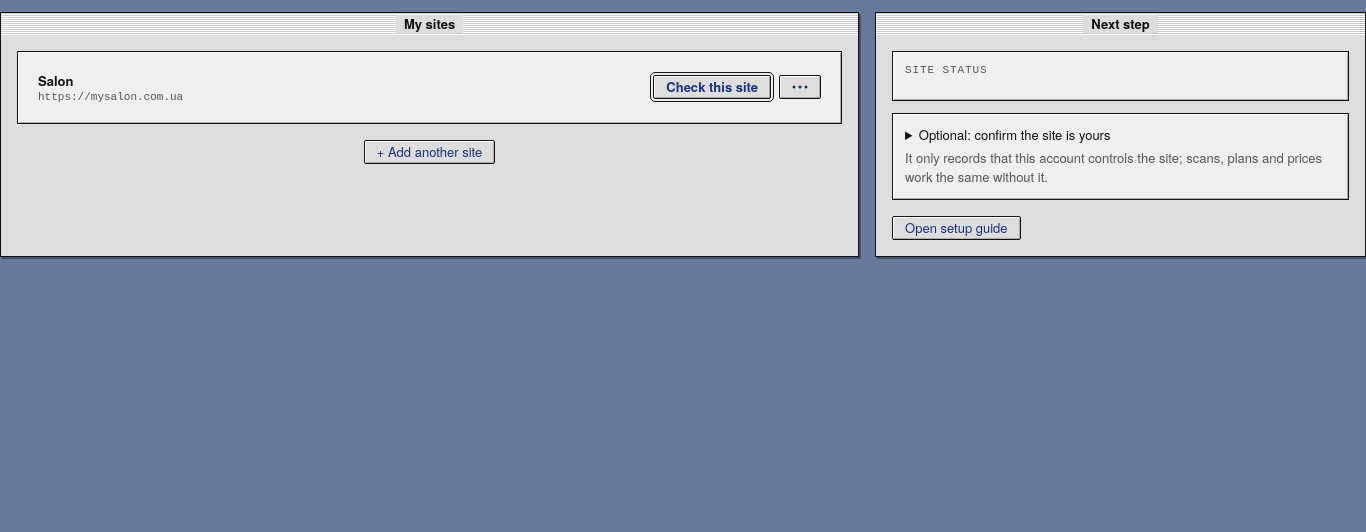
Test case: the add-a-site form › offers a plain Cancel when adding and Cancel editing when editing in en
Click the button "+ Add another site": (430, 152) [364,140,495,164]
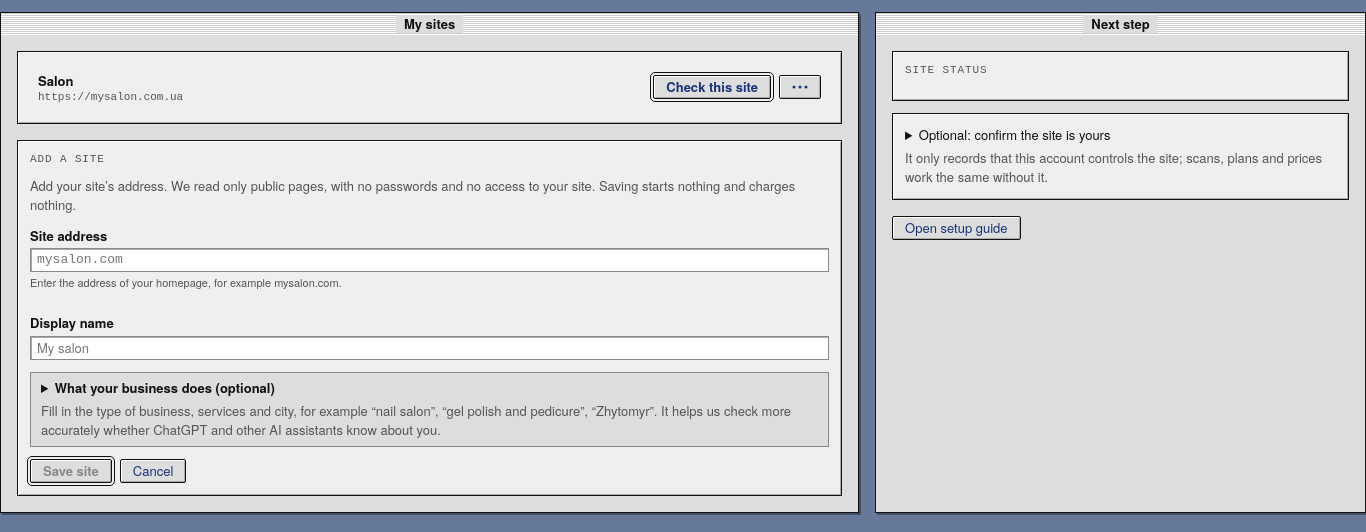
expect the button "Cancel editing" is not shown: met
expect the button "Cancel" is shown: met
Click the button "Cancel": (153, 471) [120,459,186,483]
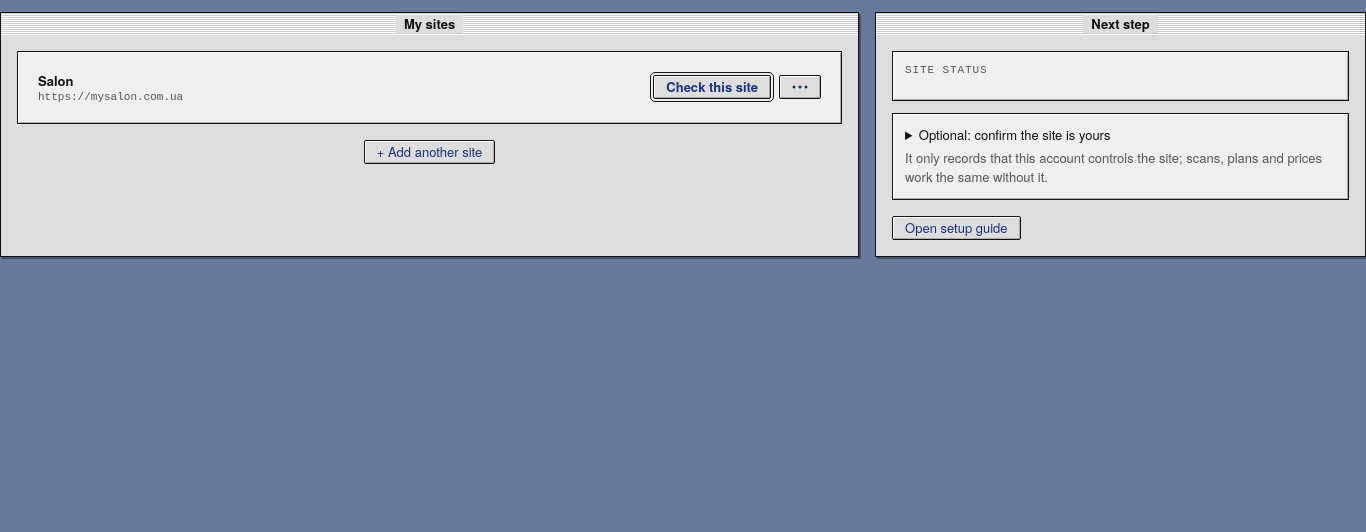
Click the button named "Actions for Salon": (800, 87) [779,75,821,99]
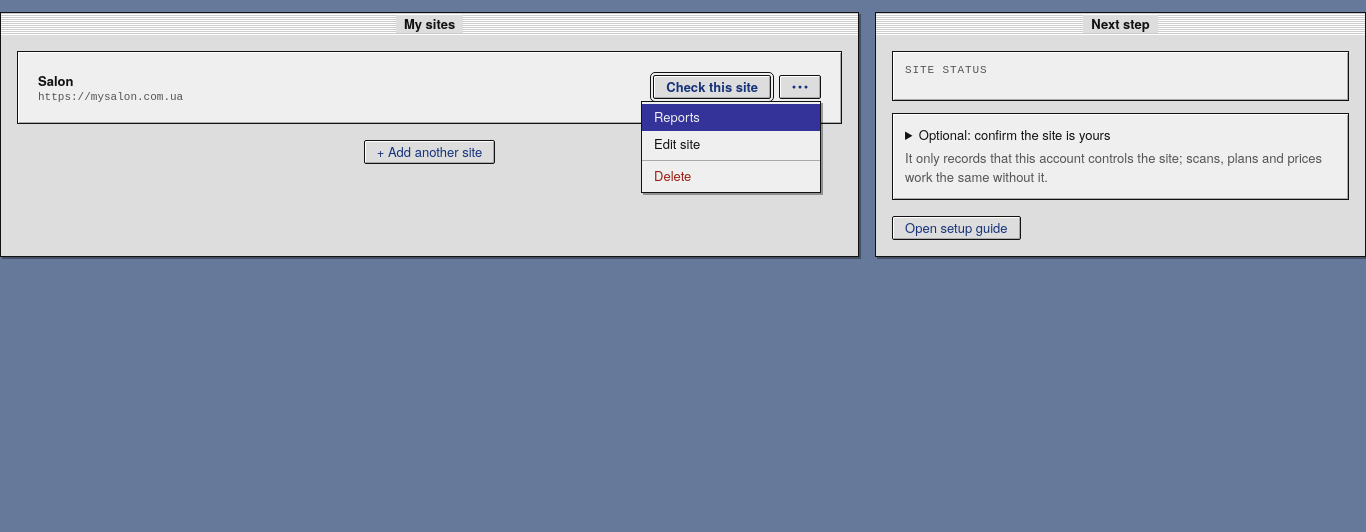
Click the menu item "Edit site": (731, 145) [642,131,820,158]
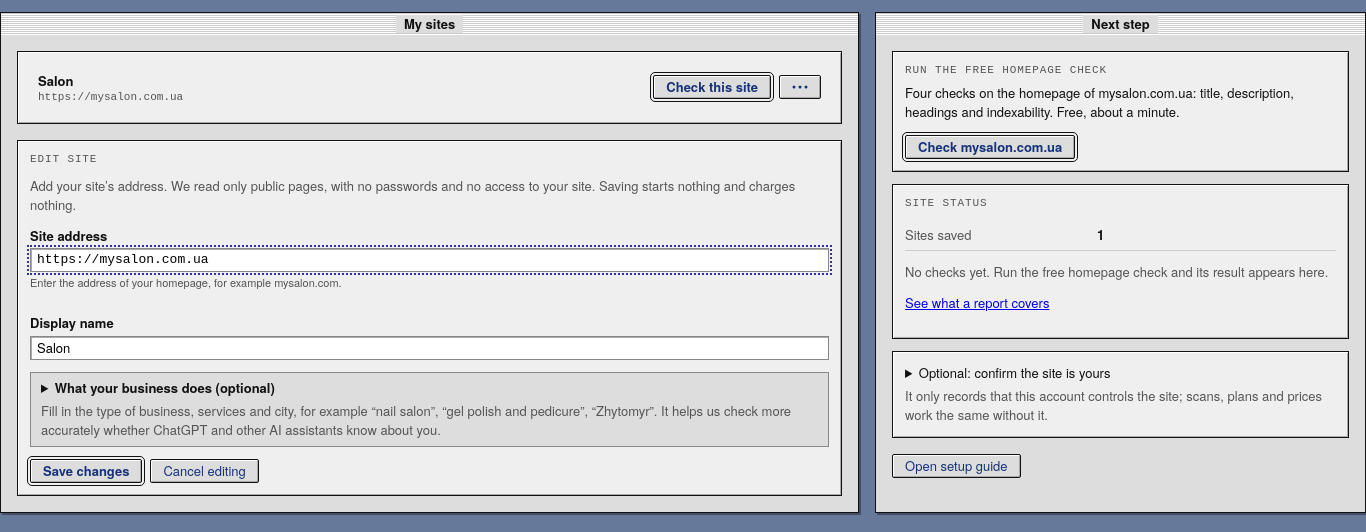
expect the button "Cancel editing" is shown: met, box [150,459,259,483]
